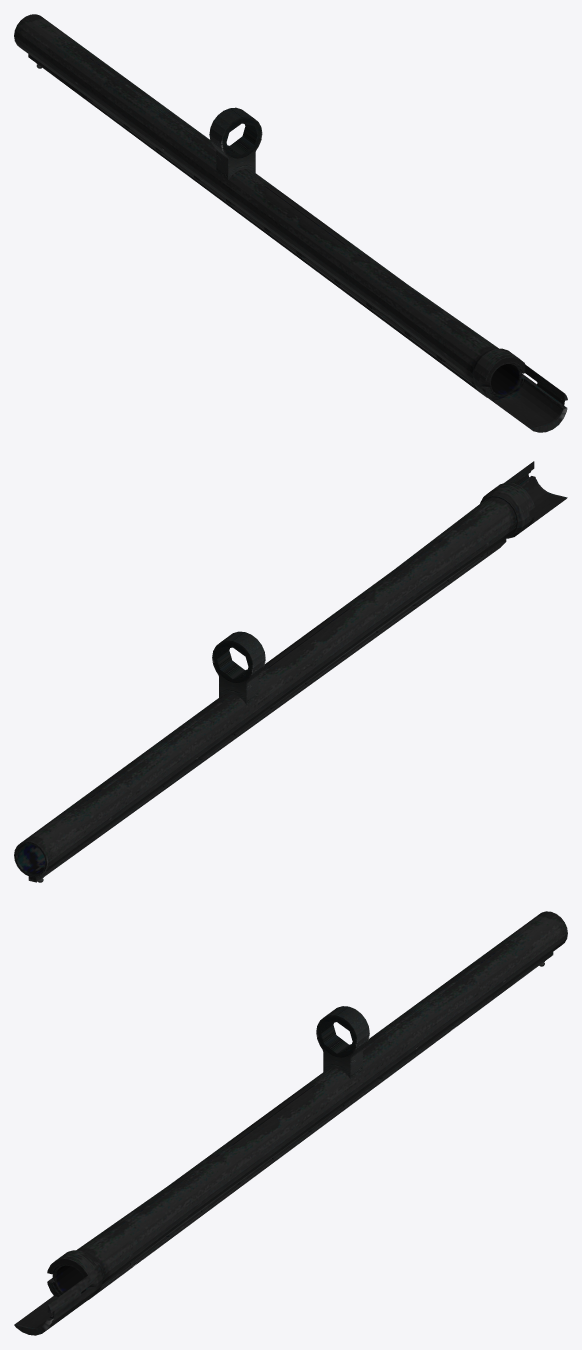
The picture shows the model from 3 angles, top to bottom: view 1: azimuth 30°, elevation 25°; view 2: azimuth 150°, elevation 25°; view 3: azimuth 330°, elevation 25°; orthographic projection.
Parts seen in each view (by area): view 1: TW_560836b64bdc2d57468b4567_PZ_Import; view 2: TW_560836b64bdc2d57468b4567_PZ_Import; view 3: TW_560836b64bdc2d57468b4567_PZ_Import.
Part boxes in pixels (bbox=[...]): TW_560836b64bdc2d57468b4567_PZ_Import: bbox=[14, 14, 567, 432]; TW_560836b64bdc2d57468b4567_PZ_Import: bbox=[14, 461, 567, 882]; TW_560836b64bdc2d57468b4567_PZ_Import: bbox=[14, 911, 567, 1335].
Size of the model in its own units: 0.0167 by 0.3379 by 0.0359.
Materials: 1 (1 with a texture image).
